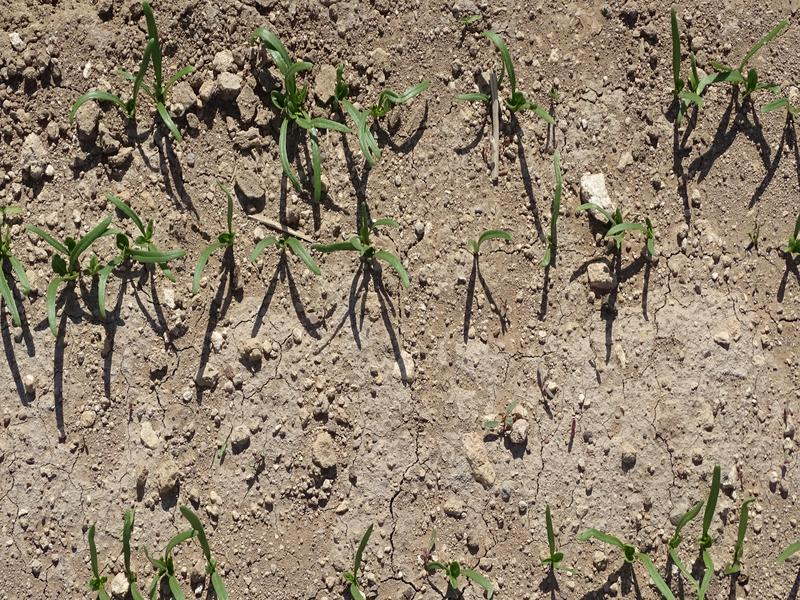Espinaca: (259, 27, 424, 192), (1, 203, 170, 338), (585, 481, 724, 596), (59, 13, 180, 130), (658, 11, 779, 120), (88, 504, 219, 600), (461, 46, 558, 124), (197, 229, 316, 285), (319, 212, 409, 285), (587, 211, 661, 259), (425, 550, 497, 591), (546, 159, 567, 265), (726, 502, 758, 570), (469, 221, 517, 257), (347, 528, 371, 600), (540, 510, 566, 572)
